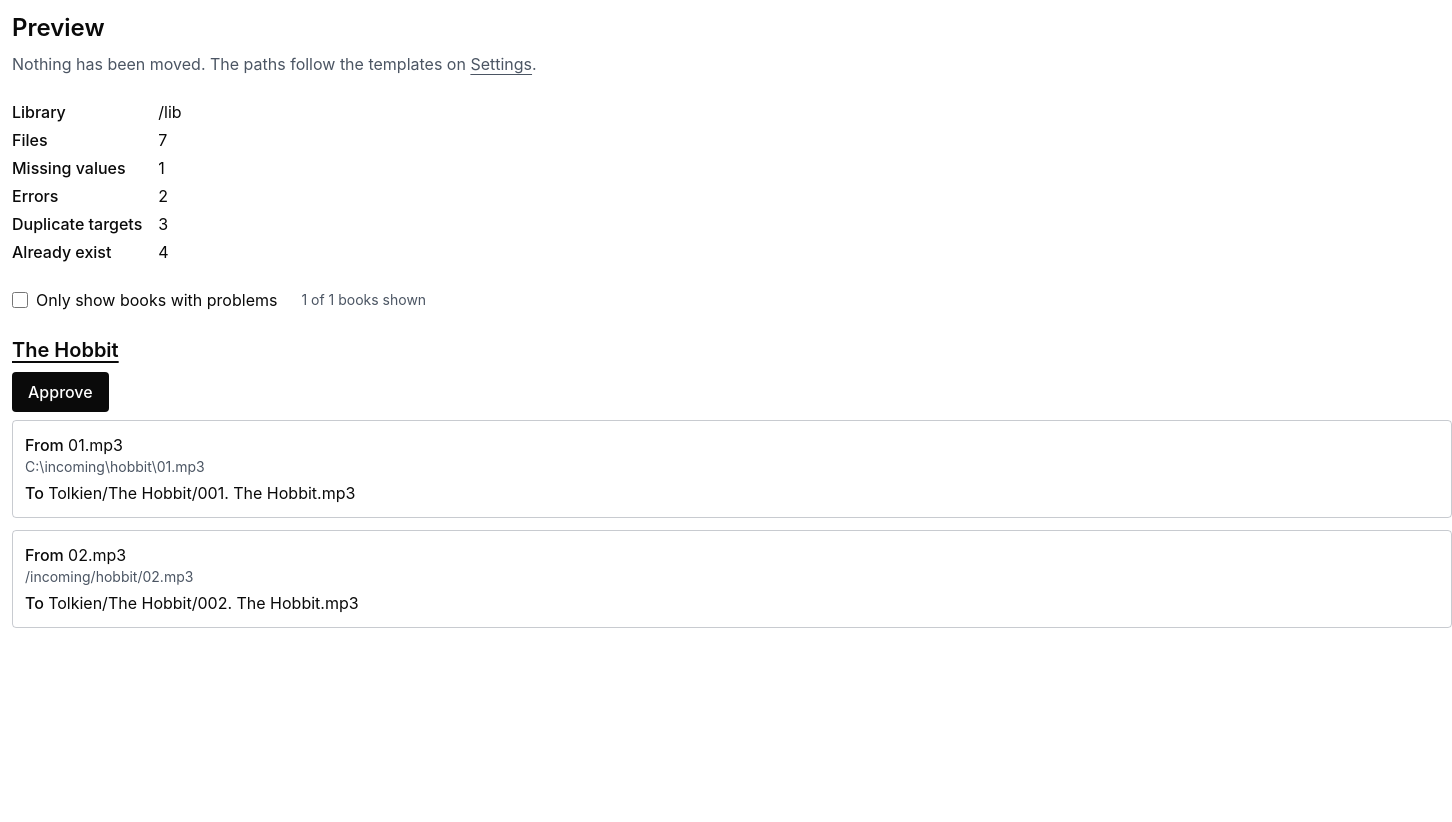
Test: PreviewPage › shows a generic alert when approving throws
Click the button "Approve": {"x": 60, "y": 392} [12,372,109,412]
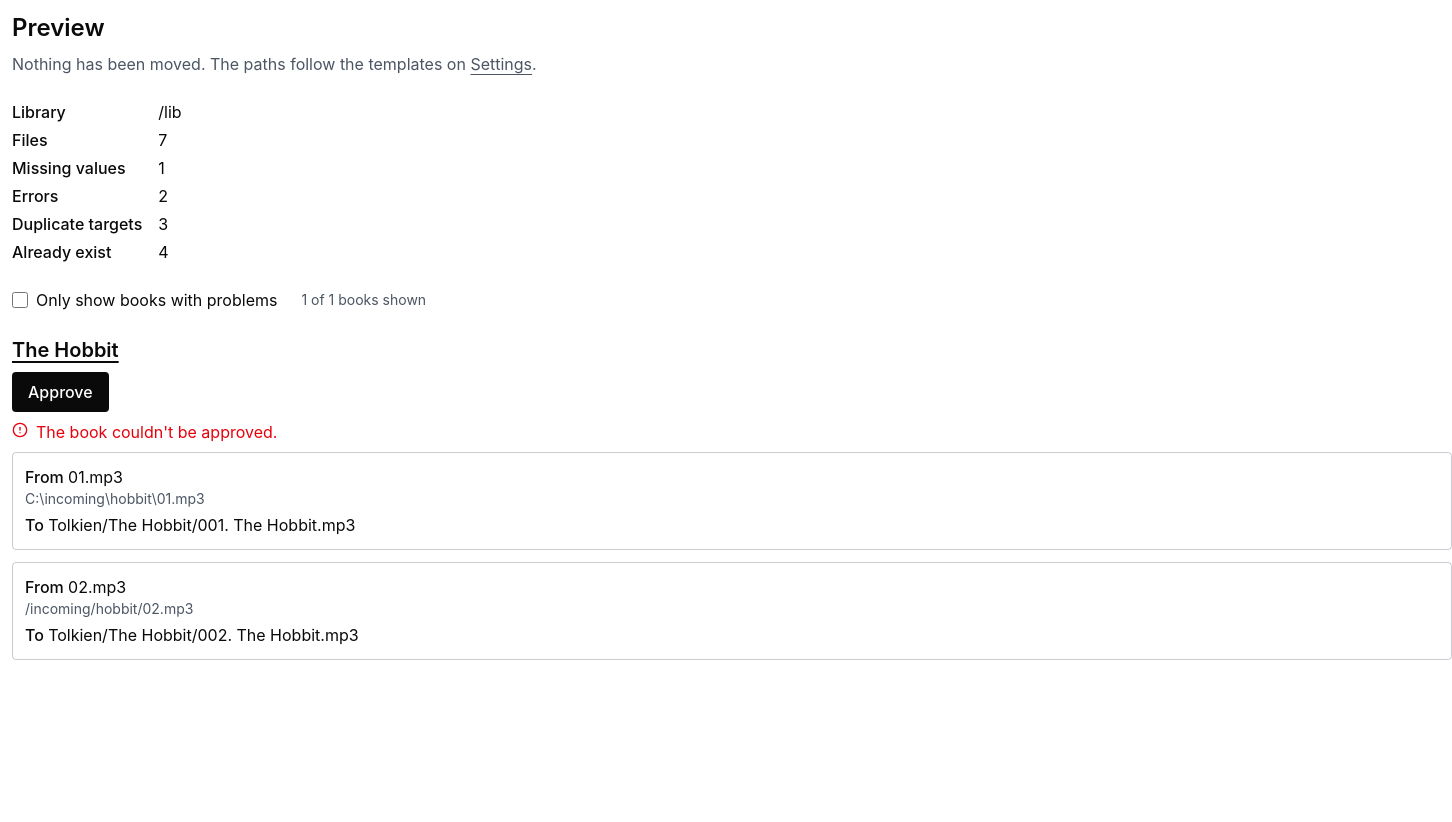
Expected: the message "The book couldn't be approved." is shown, [12,422,277,442]
